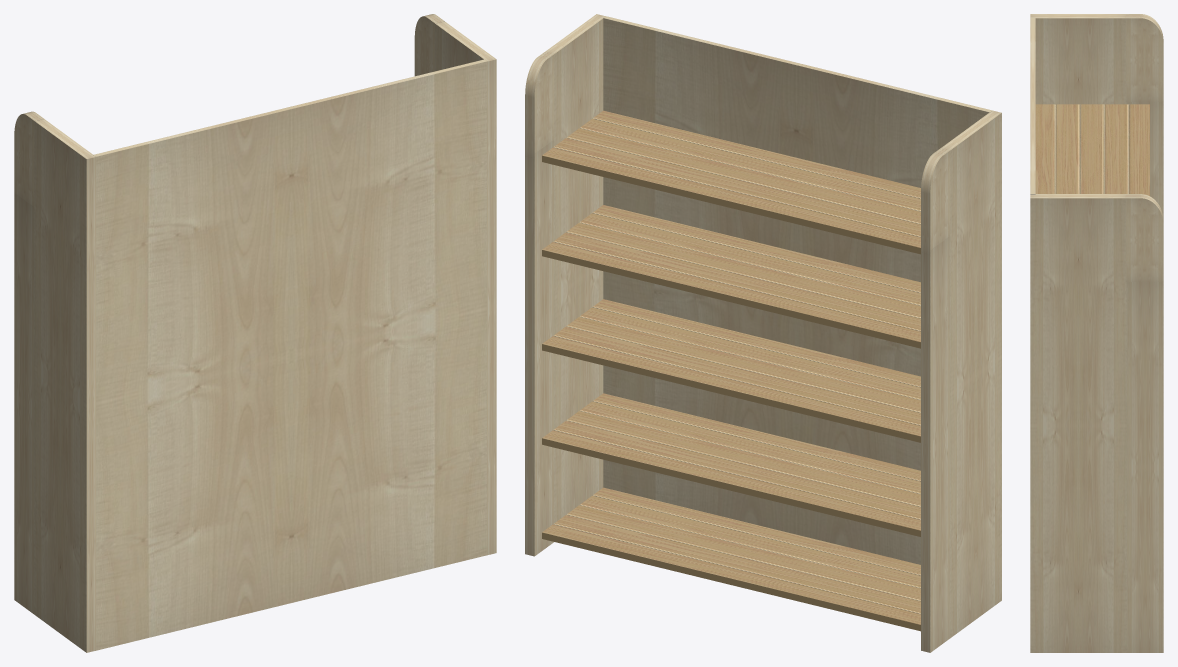
Rendered from Repisas.obj.
The picture shows the model from 3 angles, left to right: view 1: azimuth 30°, elevation 25°; view 2: azimuth 150°, elevation 25°; view 3: azimuth 270°, elevation 25°; orthographic projection. The views are drawn at different scales.
Parts seen in each view (by area): view 1: Repisas:pCube21; view 2: Repisas:pCube21; view 3: Repisas:pCube21.
Part boxes in pixels (box(x1,y1,x2,y2)): Repisas:pCube21: box(14, 14, 496, 652); Repisas:pCube21: box(525, 14, 1001, 652); Repisas:pCube21: box(1030, 14, 1163, 652).
Bounding box in the file's own units: 7.71 × 8.87 × 2.36.
4 materials, 3 textured.
